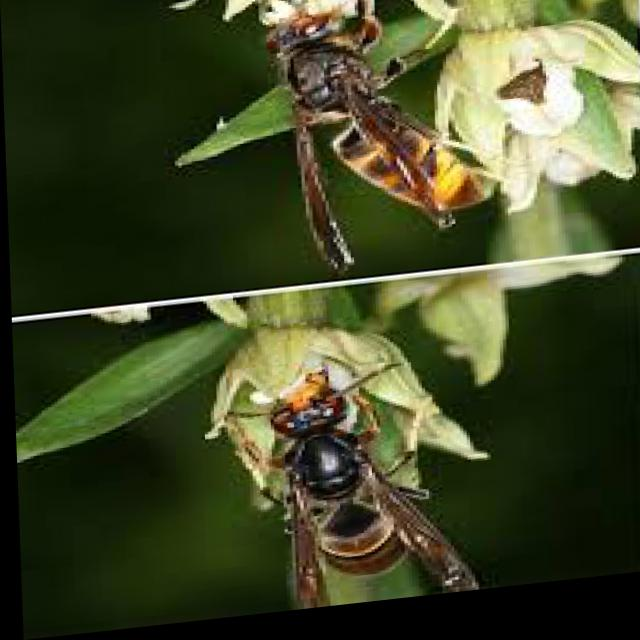Vespa Velutina: (198, 0, 537, 296), (186, 348, 540, 622)
